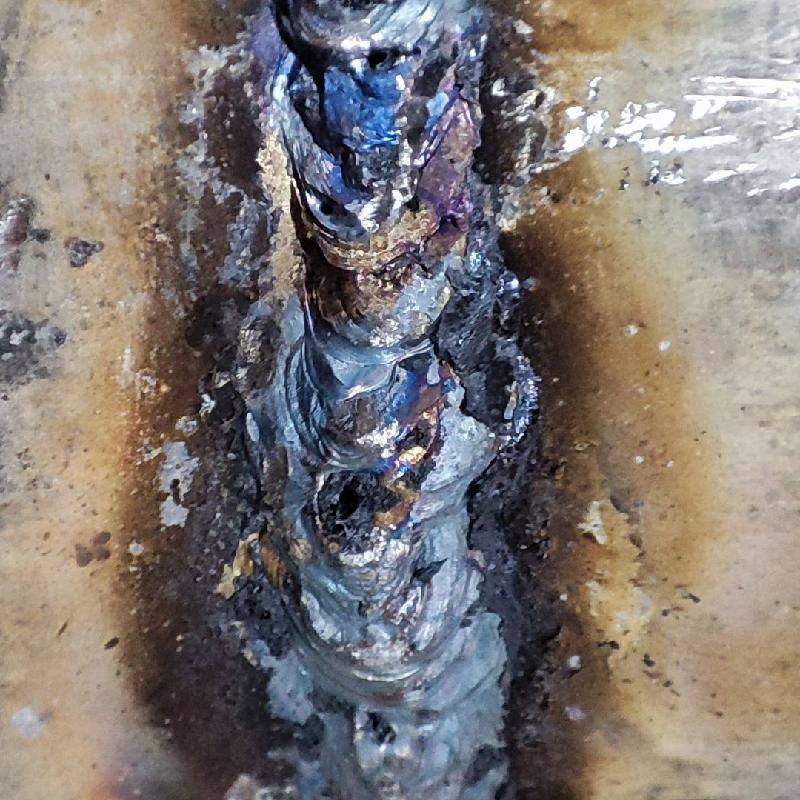Surface_pores: (321, 475, 387, 536), (348, 28, 408, 88), (306, 185, 357, 235), (387, 184, 434, 234)
